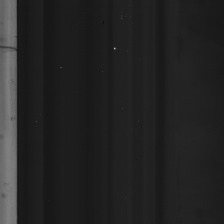crease: (1, 38, 15, 55)
